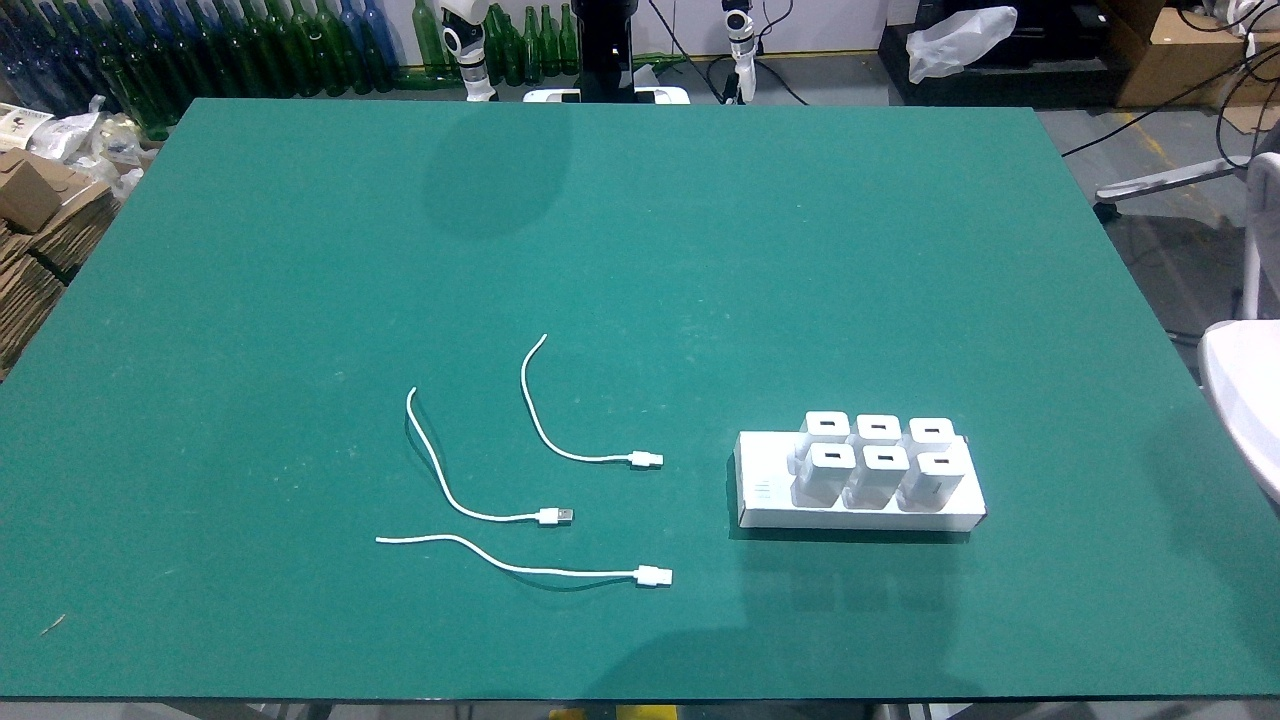usb_a_port: (822, 449, 843, 461), (866, 422, 890, 432), (922, 427, 945, 437), (818, 418, 837, 430), (932, 456, 952, 467), (874, 452, 895, 462)
